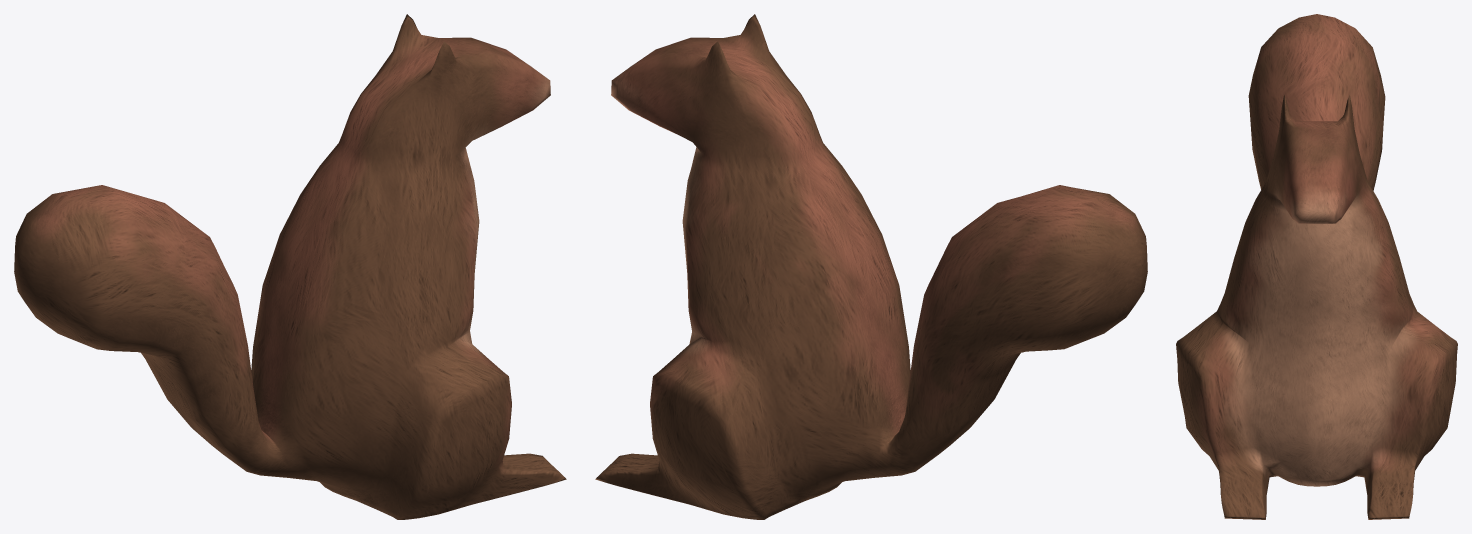
The model's file is squirrel_body_textured.fbx.
The picture shows the model from 3 angles, left to right: view 1: azimuth 30°, elevation 25°; view 2: azimuth 150°, elevation 25°; view 3: azimuth 270°, elevation 25°; orthographic projection. The views are drawn at different scales.
Visible parts, largest first — view 1: Squirrel; view 2: Squirrel; view 3: Squirrel.
Boxes of the visible parts, x1,y1,x2,y2 form: Squirrel: (14,14,566,519); Squirrel: (595,14,1147,519); Squirrel: (1176,14,1457,519).
Bounding box in the file's own units: 36.88 × 29.61 × 19.53.
1 material, 1 textured.
